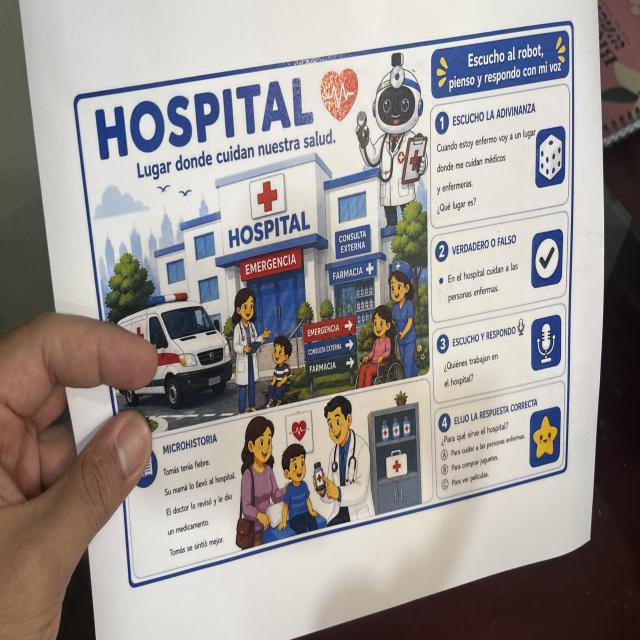hospital: (71, 16, 576, 594)
